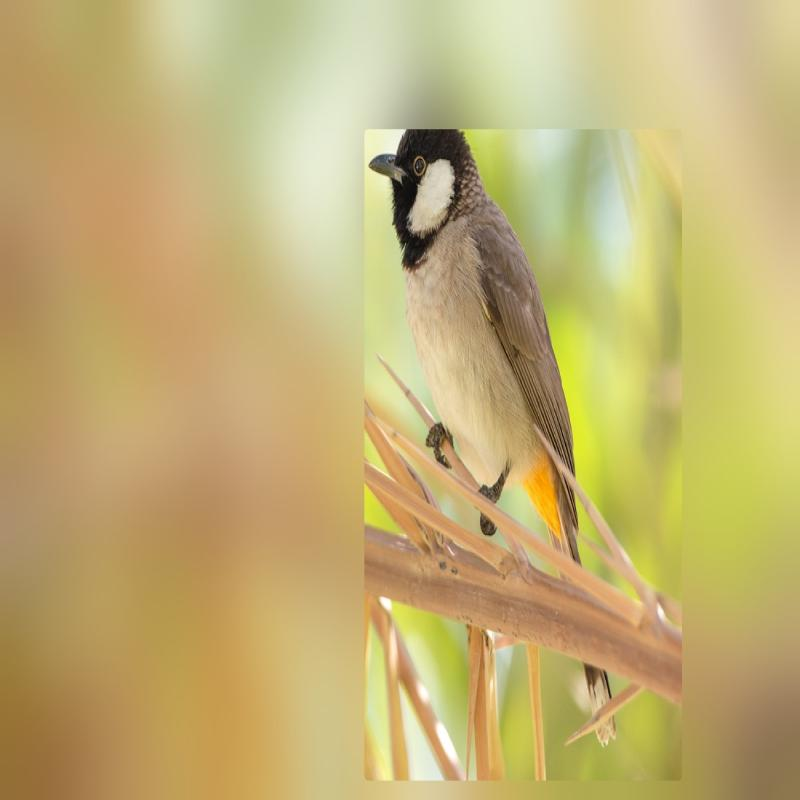white-eared bulbul: (368, 124, 616, 707)
